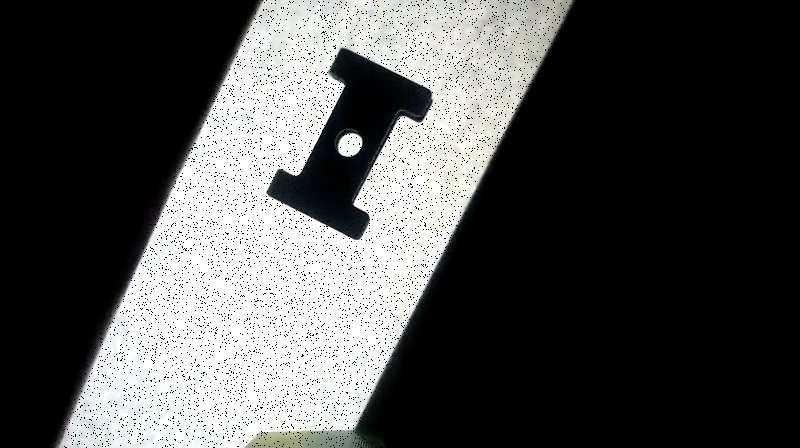O002: (262, 46, 434, 242)
